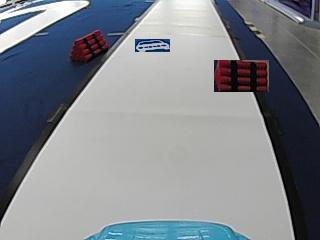bomb: (71, 27, 107, 61)
